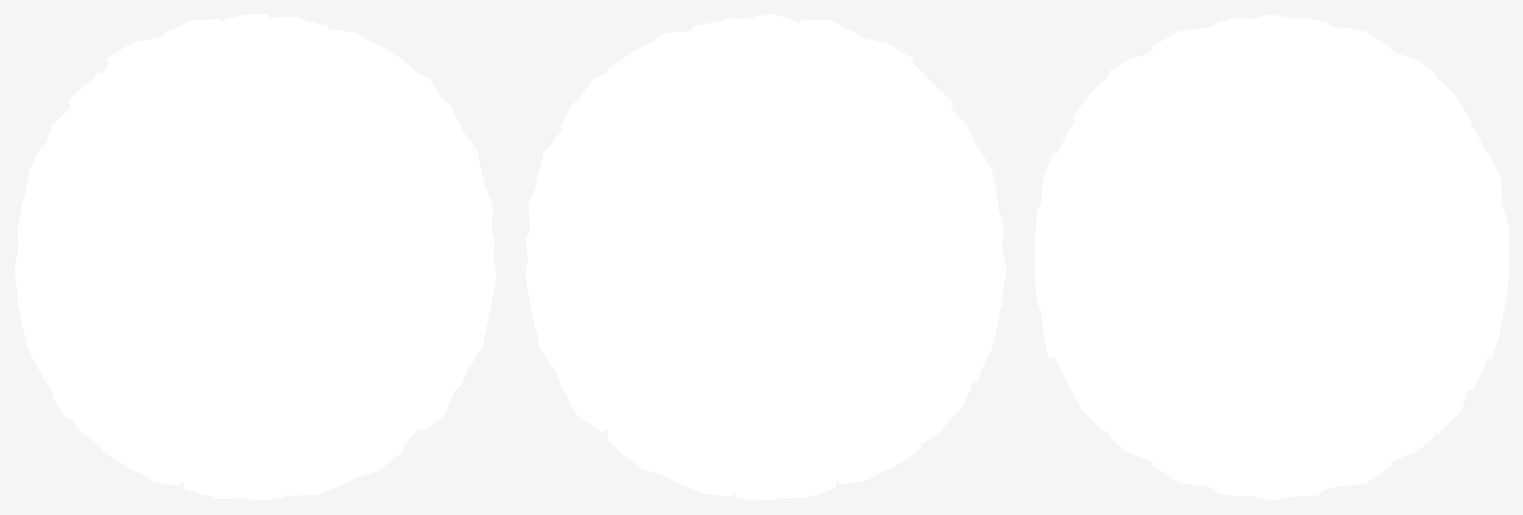
File: arbusto-orbe.glb
3 renders of one model, left to right at view 1: azimuth 30°, elevation 25°; view 2: azimuth 150°, elevation 25°; view 3: azimuth 270°, elevation 25°, orthographic.
Visible parts, largest first — view 1: mesh_node; view 2: mesh_node; view 3: mesh_node.
Boxes of the visible parts, box(x1,y1,x2,y2) form: mesh_node: box(14, 14, 496, 500); mesh_node: box(525, 14, 1006, 500); mesh_node: box(1035, 14, 1508, 500).
Size of the model in its own units: 1 by 1 by 1.
Materials: 1 (1 with a texture image).
